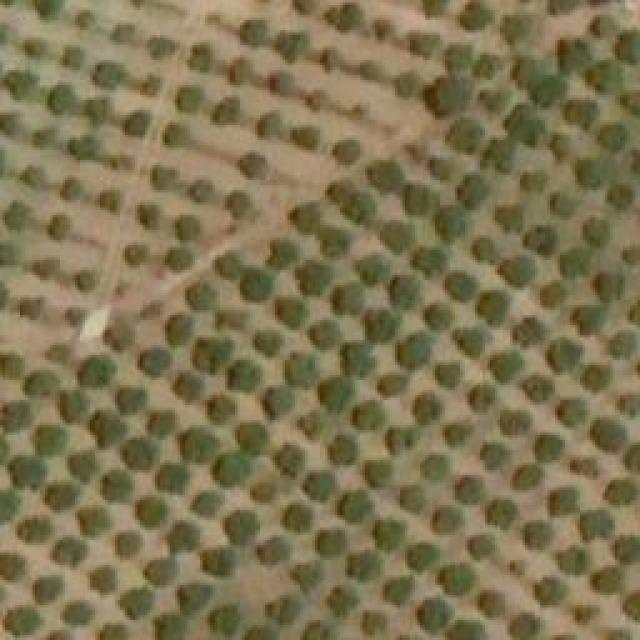Tree: (503, 103, 546, 146), (193, 335, 233, 375), (430, 75, 470, 113), (90, 410, 128, 448), (295, 263, 335, 298), (283, 350, 318, 390), (455, 175, 493, 210), (432, 205, 470, 240), (478, 287, 513, 325), (395, 332, 430, 370), (452, 325, 490, 360), (272, 295, 310, 330), (558, 37, 591, 75), (497, 255, 535, 288), (352, 253, 390, 286), (487, 350, 525, 383), (530, 75, 568, 108), (480, 138, 515, 173), (380, 220, 415, 255), (545, 338, 580, 373), (340, 343, 375, 378), (80, 353, 115, 388), (450, 118, 483, 153), (368, 160, 403, 193), (343, 193, 376, 228), (363, 310, 396, 345), (400, 185, 438, 215), (410, 248, 448, 278), (388, 278, 421, 311), (513, 315, 546, 348), (263, 238, 296, 271), (35, 425, 68, 458), (180, 585, 213, 618), (183, 428, 216, 461), (0, 399, 32, 432), (273, 30, 308, 60), (325, 3, 360, 33), (458, 0, 493, 30), (523, 225, 558, 255), (443, 270, 478, 300), (328, 285, 363, 315), (200, 548, 235, 578), (5, 70, 38, 100), (185, 40, 215, 73), (210, 95, 243, 125), (240, 270, 270, 303), (58, 390, 88, 423), (123, 438, 156, 468), (228, 510, 258, 543), (235, 423, 268, 453), (518, 375, 553, 403), (493, 205, 526, 233), (308, 320, 341, 348), (165, 313, 193, 346), (185, 282, 218, 310), (103, 322, 136, 350), (13, 457, 46, 485), (120, 590, 153, 618), (420, 598, 448, 631), (592, 418, 620, 451), (588, 65, 621, 93), (238, 18, 268, 48), (140, 348, 170, 378), (288, 203, 318, 233), (23, 373, 58, 398), (3, 200, 33, 228), (92, 60, 120, 90), (267, 68, 295, 98), (225, 57, 255, 85), (177, 83, 205, 113), (255, 110, 283, 140), (423, 302, 453, 330), (253, 327, 283, 355), (163, 245, 193, 273), (172, 373, 200, 403), (205, 395, 235, 423), (115, 387, 145, 415), (48, 480, 78, 508), (102, 470, 130, 500), (137, 495, 165, 525), (168, 522, 198, 550), (218, 455, 248, 483), (440, 562, 470, 590), (230, 360, 260, 388), (265, 387, 295, 415), (355, 402, 385, 430), (580, 510, 610, 538), (320, 228, 348, 258), (68, 133, 101, 158), (288, 125, 321, 150), (410, 30, 443, 55), (348, 553, 381, 578), (280, 445, 305, 478), (47, 85, 75, 113), (162, 120, 190, 148), (122, 110, 150, 138), (147, 410, 175, 438), (342, 492, 370, 520), (537, 577, 565, 605), (525, 520, 553, 548), (297, 410, 325, 438), (330, 435, 358, 463), (325, 380, 353, 408), (415, 395, 443, 423), (515, 57, 543, 85), (473, 55, 506, 78), (478, 90, 511, 113), (20, 518, 53, 541), (55, 538, 88, 561), (63, 600, 96, 623), (395, 73, 425, 98), (503, 13, 528, 43), (518, 168, 548, 193), (325, 178, 355, 203), (435, 360, 460, 390), (378, 373, 408, 398), (78, 508, 108, 533), (70, 453, 95, 483), (33, 578, 63, 603), (158, 465, 188, 490), (308, 470, 333, 500), (575, 308, 605, 333), (565, 100, 595, 125), (85, 97, 110, 125), (95, 188, 123, 213), (442, 45, 470, 70), (470, 238, 498, 263), (540, 283, 568, 308), (215, 250, 240, 278), (147, 558, 175, 583), (285, 505, 313, 530), (377, 523, 405, 548), (487, 500, 515, 525), (365, 460, 393, 485), (483, 442, 508, 470), (560, 548, 588, 573), (575, 160, 603, 185), (187, 180, 215, 205), (225, 190, 253, 215), (175, 212, 200, 240), (145, 35, 175, 58), (125, 240, 148, 270), (10, 608, 40, 631), (190, 493, 220, 516), (605, 480, 635, 503), (617, 32, 640, 62), (303, 620, 336, 640), (48, 212, 71, 240), (30, 255, 58, 278), (110, 23, 138, 46), (545, 135, 568, 163), (510, 615, 538, 638), (270, 600, 298, 623), (385, 578, 413, 601), (435, 508, 463, 531), (387, 428, 415, 451), (500, 413, 528, 436), (512, 465, 540, 488), (550, 490, 578, 513), (560, 250, 588, 273), (240, 150, 263, 178), (213, 312, 248, 330), (550, 193, 575, 218), (0, 353, 25, 378), (213, 608, 238, 633), (410, 543, 435, 568), (330, 588, 355, 613), (400, 485, 425, 510), (480, 590, 505, 615), (535, 435, 560, 460), (595, 568, 620, 593), (585, 220, 610, 245), (150, 165, 175, 190), (135, 200, 160, 225), (33, 0, 63, 20), (450, 622, 483, 640), (20, 165, 45, 188), (18, 298, 43, 321), (358, 58, 383, 81), (425, 158, 450, 181), (335, 140, 358, 165), (157, 617, 182, 640), (263, 538, 288, 561), (295, 563, 318, 588), (445, 423, 468, 448), (470, 385, 495, 408), (603, 125, 626, 150), (373, 15, 393, 43), (42, 343, 70, 363), (0, 490, 18, 520), (60, 178, 83, 201), (118, 533, 141, 556), (320, 533, 343, 556), (363, 613, 386, 636), (458, 478, 481, 501), (610, 333, 633, 356), (617, 537, 640, 560), (610, 185, 633, 208), (305, 90, 328, 113), (242, 625, 277, 640), (0, 112, 22, 135), (0, 554, 22, 577), (422, 0, 450, 18), (250, 482, 278, 500), (63, 45, 83, 70), (73, 270, 98, 290), (560, 403, 585, 423), (583, 368, 608, 388), (620, 238, 640, 263), (545, 0, 578, 15), (23, 38, 46, 58), (140, 73, 160, 96), (318, 48, 338, 71), (93, 568, 113, 591), (470, 535, 493, 555), (425, 455, 445, 478), (0, 240, 18, 265), (138, 300, 163, 318), (602, 275, 620, 300), (625, 590, 640, 618), (33, 127, 56, 145), (622, 93, 640, 116), (573, 460, 598, 475), (73, 10, 93, 28), (65, 307, 85, 325), (205, 12, 225, 30), (405, 140, 423, 160), (620, 397, 640, 415), (595, 17, 615, 35), (345, 103, 368, 118), (295, 0, 318, 15), (115, 280, 130, 298), (575, 605, 593, 620)
